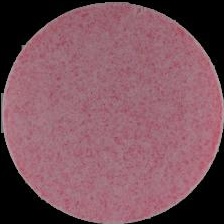54868-5564: (0, 0, 224, 224)
